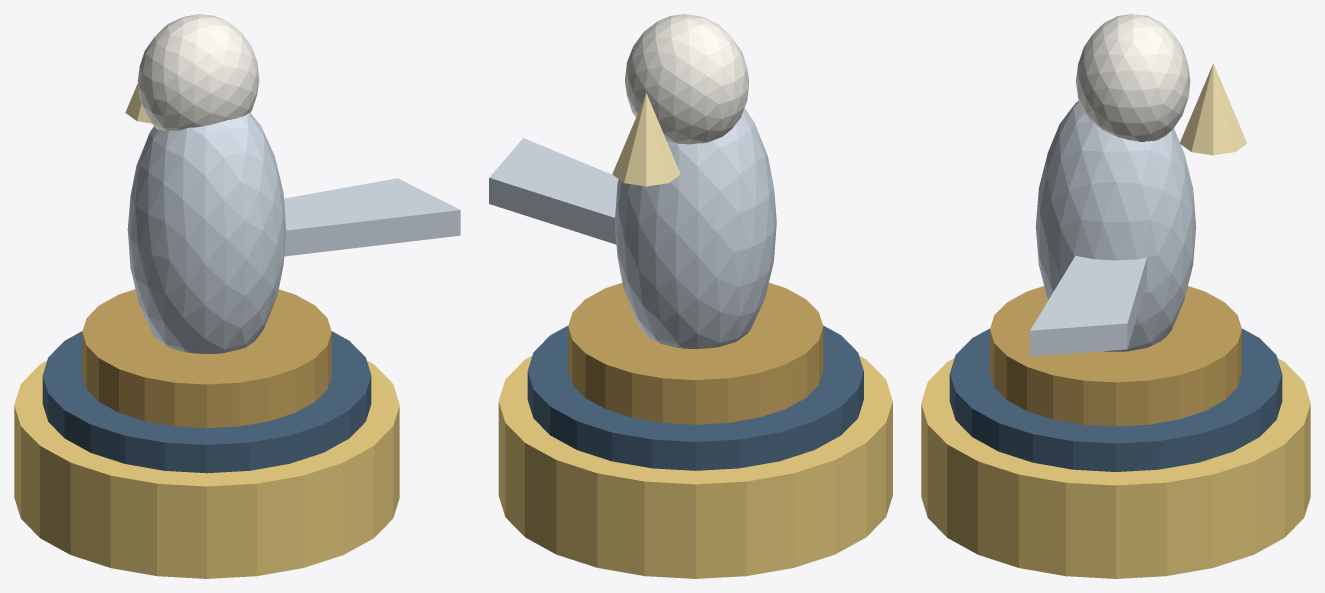
File: eagle.glb
The picture shows the model from 3 angles, left to right: view 1: azimuth 30°, elevation 25°; view 2: azimuth 150°, elevation 25°; view 3: azimuth 270°, elevation 25°; orthographic projection. The views are drawn at different scales.
Visible parts, largest first — view 1: pedestal_gold, eagle_body, plinth, pedestal_inlay, eagle_head, eagle_wing; view 2: pedestal_gold, eagle_body, plinth, pedestal_inlay, eagle_head, eagle_wing, eagle_beak; view 3: pedestal_gold, eagle_body, plinth, pedestal_inlay, eagle_head, eagle_wing, eagle_beak.
Boxes of the visible parts, x1,y1,x2,y2 form: pedestal_gold: [14, 360, 399, 578]; eagle_body: [127, 112, 286, 353]; plinth: [82, 289, 331, 428]; pedestal_inlay: [42, 331, 371, 473]; eagle_head: [137, 14, 259, 130]; eagle_wing: [284, 178, 460, 256]; pedestal_gold: [498, 355, 892, 578]; eagle_body: [614, 108, 776, 348]; plinth: [568, 282, 823, 424]; pedestal_inlay: [527, 325, 863, 470]; eagle_head: [625, 14, 749, 144]; eagle_wing: [489, 138, 618, 244]; eagle_beak: [612, 93, 680, 186]; pedestal_gold: [921, 358, 1310, 578]; eagle_body: [1035, 100, 1196, 351]; plinth: [990, 286, 1241, 426]; pedestal_inlay: [949, 328, 1282, 471]; eagle_head: [1076, 14, 1190, 141]; eagle_wing: [1030, 256, 1147, 356]; eagle_beak: [1179, 63, 1246, 155].
Size of the model in its own units: 0.77 by 0.92 by 0.68.
